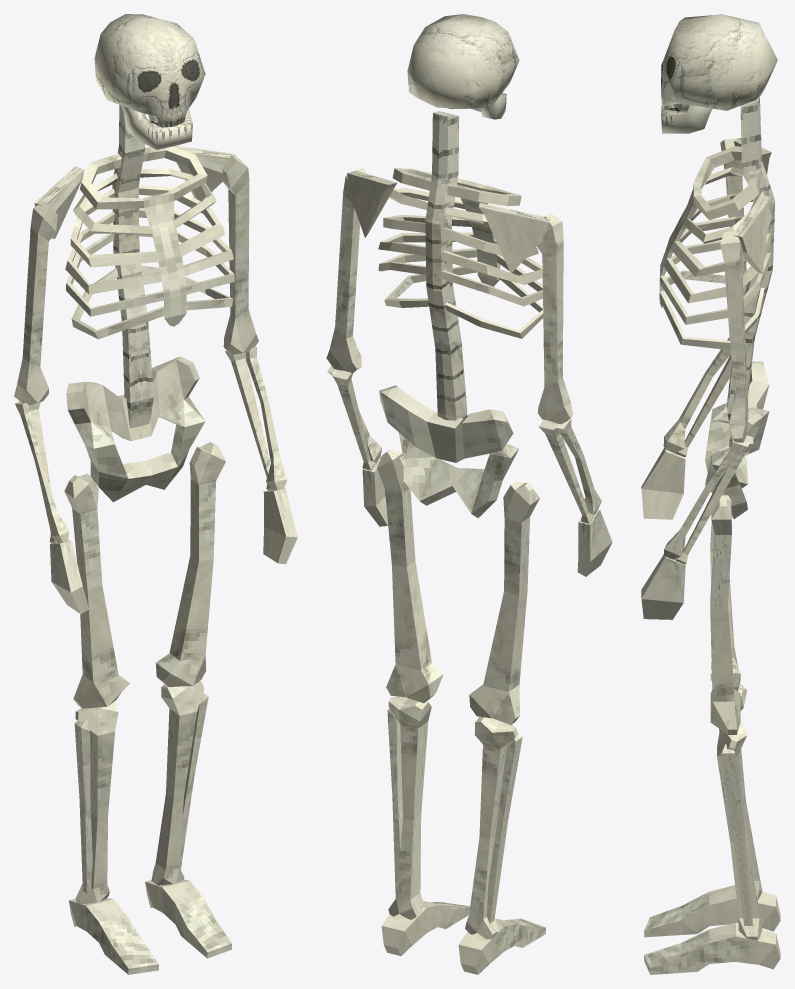
The model's file is SkeletonDemons.glb.
3 views of the same model, side by side, from view 1: azimuth 30°, elevation 25°; view 2: azimuth 150°, elevation 25°; view 3: azimuth 270°, elevation 25° (orthographic).
Parts seen in each view (by area): view 1: RibCage, Femur, Shin, Pelvis, Skull, UpperArmBone, Foot, Spine, ForeArn, Hand, Scapula, SkullJaw; view 2: Femur, Shin, RibCage, Pelvis, Skull, UpperArmBone, Spine, Foot, Scapula, ForeArn, Hand; view 3: RibCage, Skull, Foot, Femur, Shin, ForeArn, Hand, UpperArmBone, Pelvis, Spine, Scapula, SkullJaw.
Part boxes in pixels (x1,y1,x2,y2): RibCage: (65,146,234,339); Femur: (64,442,225,708); Shin: (74,681,208,904); Pelvis: (66,356,205,502); Skull: (94,14,205,127); UpperArmBone: (14,155,258,405); Foot: (69,879,231,974); Spine: (112,105,153,440); ForeArn: (15,347,287,543); Hand: (50,488,297,613); Scapula: (34,146,236,238); SkullJaw: (121,105,192,149); Femur: (377,449,539,724); Shin: (387,696,522,939); RibCage: (378,168,543,338); Pelvis: (379,385,518,517); Skull: (407,14,519,108); UpperArmBone: (326,167,573,424); Spine: (425,111,467,420); Foot: (381,901,545,974); Scapula: (347,171,550,273); ForeArn: (327,365,601,523); Hand: (362,456,612,576); RibCage: (659,146,772,350); Skull: (661,14,777,111); Foot: (644,885,780,974); Femur: (710,495,740,734); Shin: (717,683,762,940); ForeArn: (663,337,753,564); Hand: (641,448,685,619); UpperArmBone: (720,138,748,442); Pelvis: (705,361,769,518); Spine: (727,97,775,422); Scapula: (733,137,771,273); SkullJaw: (661,104,712,133).
Size of the model in its own units: 3.73 by 13.52 by 1.83.
1 material, 1 textured.
